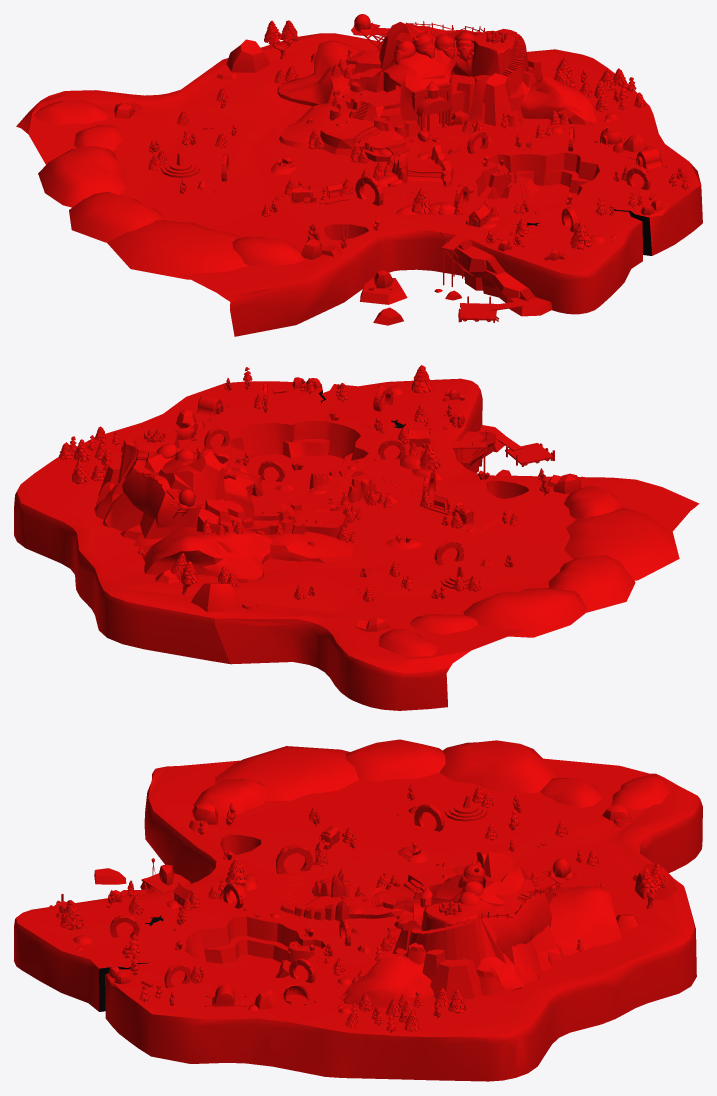
Rendered from Individual_CoralCove_03.glb.
The picture shows the model from 3 angles, top to bottom: view 1: azimuth 30°, elevation 25°; view 2: azimuth 150°, elevation 25°; view 3: azimuth 270°, elevation 25°; orthographic projection. The views are drawn at different scales.
Parts seen in each view (by area): view 1: Berg, polySurface2, pasted__SnowPatch18, IceChunks, pasted__SnowPatch20, pasted__SnowPatch19, Rocks, LOOPS, Rushmore, pasted__SnowPatch17, Library, pasted__SnowPatch22 (+6 smaller); view 2: Berg, polySurface2, pasted__SnowPatch18, pasted__SnowPatch20, pasted__SnowPatch19, Rocks, LOOPS, pasted__SnowPatch17, Wood, IceChunks, pasted__SnowPatch22, pasted__SnowPatch21 (+2 smaller); view 3: Berg, polySurface2, pasted__SnowPatch18, pasted__SnowPatch20, pasted__SnowPatch19, Rocks, LOOPS, pasted__SnowPatch17, pasted__SnowPatch22, pasted__SnowPatch21, Rushmore, Ice (+4 smaller).
Part boxes in pixels (x1,y1,x2,y2): Berg: [16, 33, 702, 336]; polySurface2: [277, 22, 596, 200]; pasted__SnowPatch18: [107, 220, 248, 279]; IceChunks: [360, 238, 552, 325]; pasted__SnowPatch20: [38, 146, 126, 207]; pasted__SnowPatch19: [69, 192, 164, 242]; Rocks: [197, 39, 651, 259]; LOOPS: [221, 126, 650, 232]; Rushmore: [394, 29, 476, 64]; pasted__SnowPatch17: [232, 236, 304, 266]; Library: [411, 80, 474, 149]; pasted__SnowPatch22: [33, 100, 108, 124]; Berg: [14, 378, 699, 710]; polySurface2: [94, 431, 422, 583]; pasted__SnowPatch18: [564, 507, 679, 580]; pasted__SnowPatch20: [463, 588, 587, 637]; pasted__SnowPatch19: [548, 555, 635, 612]; Rocks: [155, 383, 581, 612]; LOOPS: [204, 381, 463, 565]; pasted__SnowPatch17: [564, 485, 624, 519]; Wood: [451, 430, 554, 474]; IceChunks: [454, 425, 584, 477]; pasted__SnowPatch22: [378, 629, 437, 656]; pasted__SnowPatch21: [410, 614, 478, 634]; Berg: [14, 758, 702, 1081]; polySurface2: [278, 852, 621, 1007]; pasted__SnowPatch18: [215, 746, 359, 800]; pasted__SnowPatch20: [439, 740, 557, 793]; pasted__SnowPatch19: [345, 739, 445, 781]; Rocks: [67, 802, 677, 1014]; LOOPS: [110, 804, 444, 988]; pasted__SnowPatch17: [193, 778, 270, 816]; pasted__SnowPatch22: [611, 774, 669, 809]; pasted__SnowPatch21: [540, 778, 601, 807]; Rushmore: [457, 852, 486, 906]; Ice: [56, 805, 631, 984].
Size of the model in its own units: 133 by 26.92 by 130.
